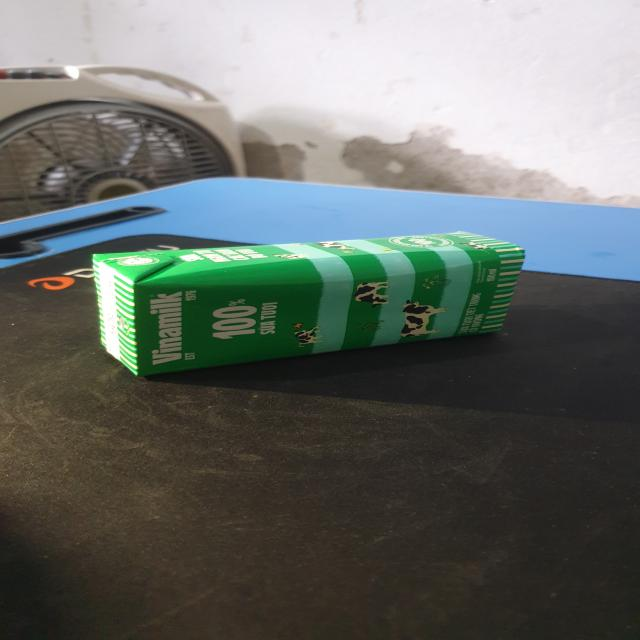Vina: (92, 231, 531, 380)
